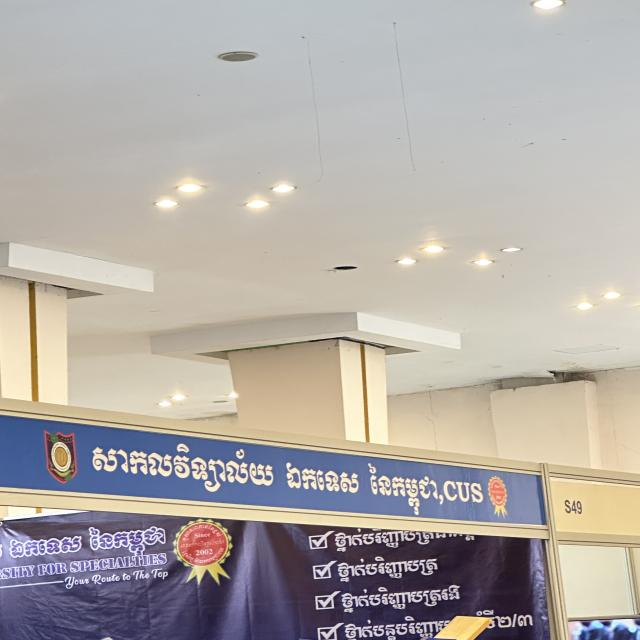2: (84, 442, 441, 515)
Yolov11kh: (336, 579, 467, 617), (331, 552, 444, 584)
